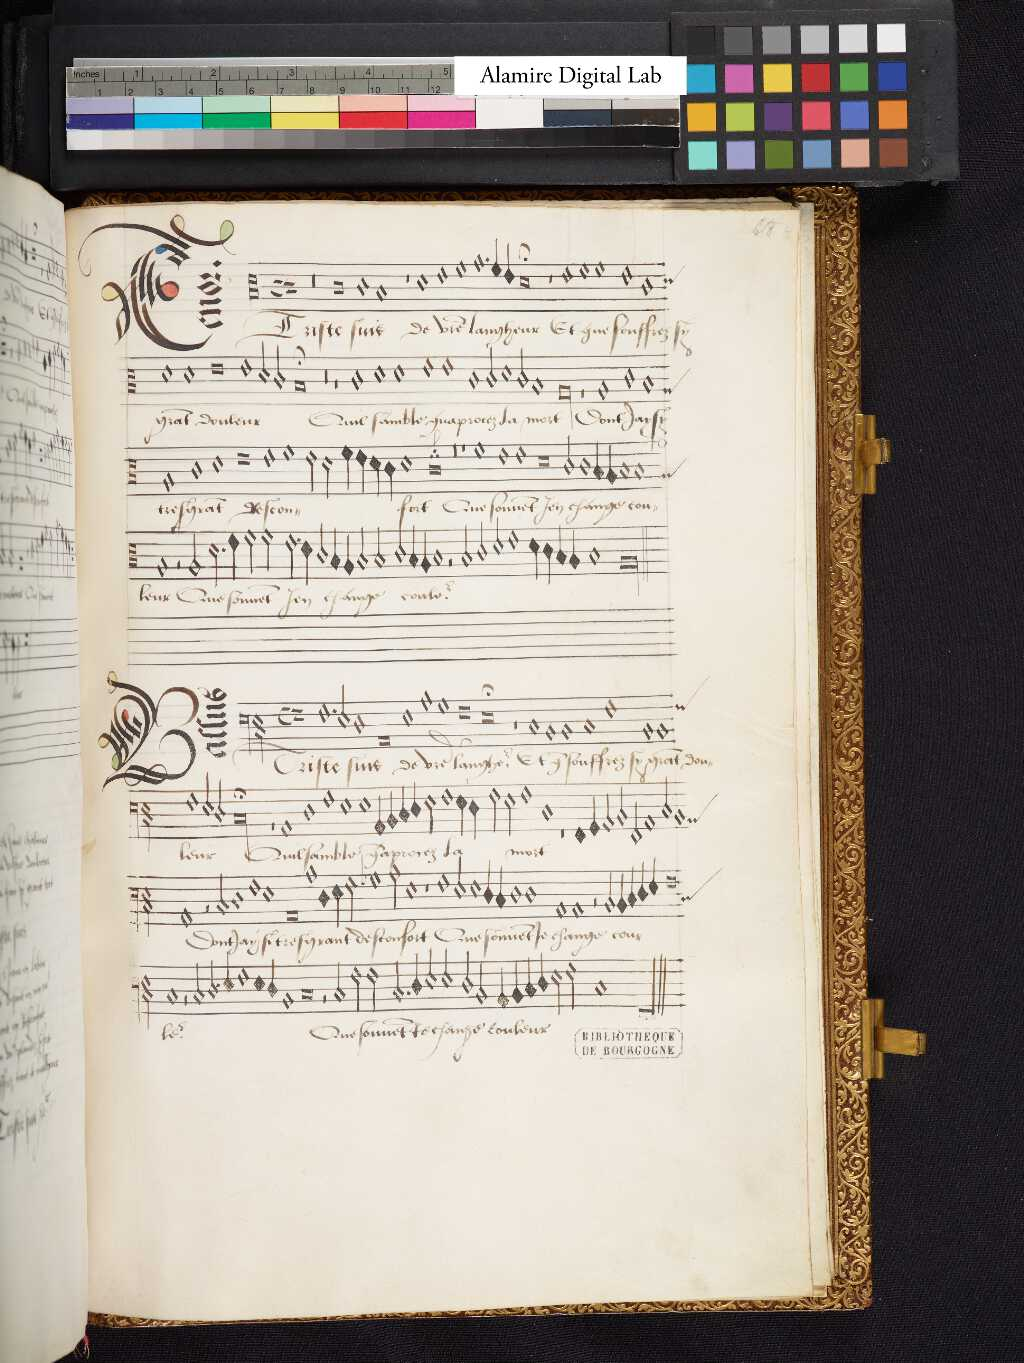colored semibreve_12: (570, 818, 589, 851)
custos_10: (687, 799, 706, 830)
f clef_7: (120, 790, 159, 852)
fermata: (228, 779, 254, 810)
longa_8: (229, 803, 251, 864)
minim_10: (601, 784, 616, 835)
minim_12: (627, 790, 645, 846)
minim_5: (486, 776, 502, 835)
minim_6: (501, 783, 518, 836), (423, 786, 439, 838), (200, 765, 215, 820)
minim_7: (213, 770, 227, 828)
minim_8: (662, 773, 674, 822)
minim_9: (614, 777, 629, 829)
semibreve rest: (266, 779, 278, 843), (556, 784, 568, 849)
semibreve_10: (276, 810, 295, 844), (642, 805, 659, 837)
semibreve_5: (183, 783, 202, 817), (321, 781, 338, 815), (440, 779, 456, 812), (520, 776, 534, 811)
semibreve_6: (338, 787, 355, 822), (356, 787, 373, 820)
semibreve_7: (300, 794, 318, 829)
semibreve_8: (538, 795, 555, 829)
semibreve_9: (672, 800, 688, 833)
semiminim_10: (373, 787, 387, 843)
semiminim_11: (588, 790, 603, 841)
semiminim_6: (455, 786, 469, 842)
semiminim_7: (467, 790, 481, 844), (408, 773, 421, 823)
semiminim_8: (396, 784, 410, 833)
semiminim_9: (384, 784, 399, 835)
